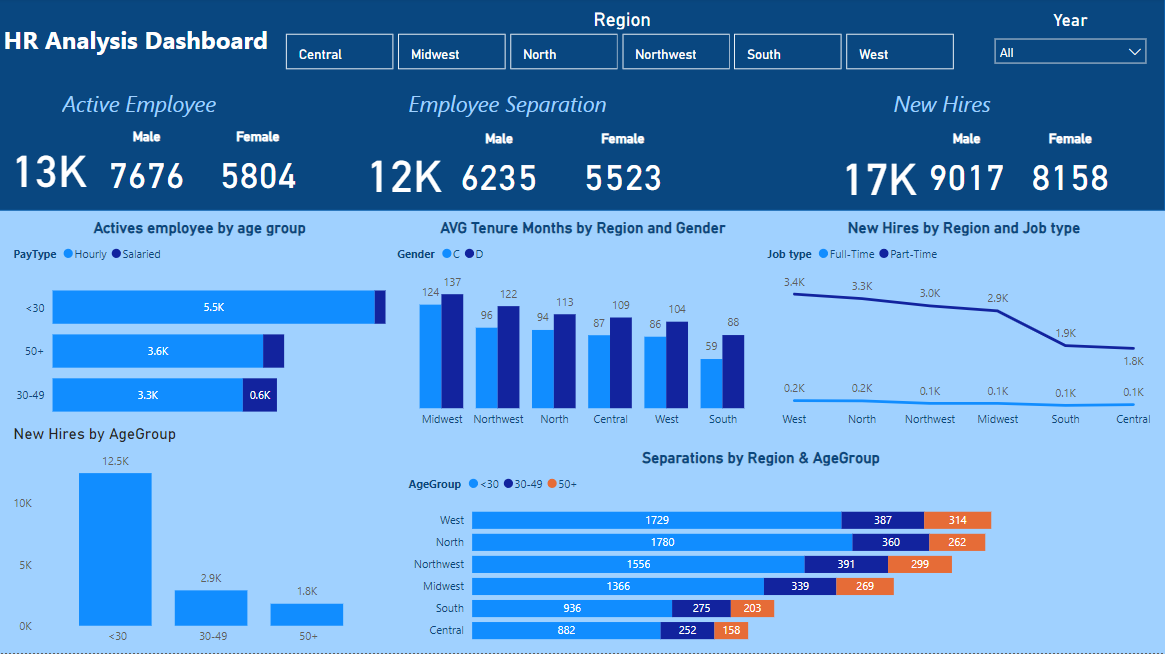

This screenshot's page, from the dashboard's own definition file:
{"tool":"powerbi","page":{"name":"Page 1","canvas":[1280,720],"ordinal":0},"visuals":[{"type":"shape","box":[0,0,1280.3,234.6],"z":0},{"type":"textbox","box":[0,23.3,322.5,72.7],"z":1000},{"type":"advancedSlicerVisual","fields":{"Values":["BU.Region"]},"box":[310.1,12.3,747.9,72.7],"z":2000},{"type":"slicer","title":"Year","fields":{"Values":["Date.Year"]},"box":[1082.7,13.7,186.6,71.4],"z":3000},{"type":"textbox","box":[64.5,96.1,193.5,42.5],"z":4000},{"type":"card","fields":{"Values":["Measure Table.Actives"]},"box":[0,138.6,109.8,96.1],"z":5000},{"type":"card","title":"Male","fields":{"Values":["Measure Table.Male Actives"]},"box":[93.3,144.1,137.2,79.6],"z":6000},{"type":"card","title":"Female","fields":{"Values":["Measure Table.Female Actives"]},"box":[205.8,144.1,156.4,79.6],"z":7000},{"type":"textbox","box":[444.6,96.1,290.9,42.5],"z":8000},{"type":"textbox","box":[977,96.1,163.3,42.5],"z":9000},{"type":"card","fields":{"Values":["Measure Table.Separations"]},"box":[389.7,144.1,109.8,96.1],"z":10000},{"type":"card","title":"Female","fields":{"Values":["Measure Table.female Separations"]},"box":[606.5,146.8,156.4,79.6],"z":11000},{"type":"card","title":"Male","fields":{"Values":["Measure Table.Male Separations"]},"box":[470.7,146.8,156.4,79.6],"z":12000},{"type":"card","fields":{"Values":["Measure Table.New Hires"]},"box":[911.2,146.8,109.8,96.1],"z":13000},{"type":"card","title":"Male","fields":{"Values":["Measure Table.Male New Hires"]},"box":[983.9,146.8,156.4,79.6],"z":14000},{"type":"card","title":"Female","fields":{"Values":["Measure Table.Female New Hires"]},"box":[1097.8,146.8,156.4,79.6],"z":15000},{"type":"barChart","title":"Actives employee by age group","fields":{"Category":["AgeGroup.AgeGroup"],"Y":["Measure Table.Actives"],"Series":["PayType.PayType"]},"box":[11,242.9,418.5,238.8],"z":16000},{"type":"columnChart","fields":{"Y":["Measure Table.New Hires"],"Category":["AgeGroup.AgeGroup"]},"box":[11,469.3,418.5,251.1],"z":16001},{"type":"clusteredColumnChart","fields":{"Y":["Measure Table.AVG Tenure Months"],"Series":["Employee.Gender"],"Category":["BU.Region"]},"box":[432.2,242.9,417.2,238.8],"z":16002},{"type":"barChart","title":"Separations by Region & AgeGroup","fields":{"Y":["Measure Table.Separations"],"Category":["BU.Region"],"Series":["AgeGroup.AgeGroup"]},"box":[444.6,495.4,783.5,225],"z":16003},{"type":"lineChart","fields":{"Y":["Measure Table.New Hires"],"Category":["BU.Region"],"Series":["FP.Job type"]},"box":[838.4,242.9,441.9,238.8],"z":16004}]}

Visuals, with their boxes in screenshot pixels (x1, y1, x2, y2), scaled from the page's 1280x720 canvas onto the 1165x654 screenshot:
shape: detection(0, 0, 1164, 213)
textbox: detection(0, 21, 294, 87)
advancedSlicerVisual - BU.Region: detection(282, 11, 963, 77)
"Year" slicer: detection(985, 12, 1155, 77)
textbox: detection(59, 87, 235, 126)
card - Measure Table.Actives: detection(0, 126, 100, 213)
"Male" card: detection(85, 131, 210, 203)
"Female" card: detection(187, 131, 330, 203)
textbox: detection(405, 87, 669, 126)
textbox: detection(889, 87, 1038, 126)
card - Measure Table.Separations: detection(355, 131, 455, 218)
"Female" card: detection(552, 133, 694, 206)
"Male" card: detection(428, 133, 571, 206)
card - Measure Table.New Hires: detection(829, 133, 929, 221)
"Male" card: detection(896, 133, 1038, 206)
"Female" card: detection(999, 133, 1142, 206)
"Actives employee by age group" barChart: detection(10, 221, 391, 438)
columnChart - Measure Table.New Hires x AgeGroup.AgeGroup: detection(10, 426, 391, 653)
clusteredColumnChart - Measure Table.AVG Tenure Months x Employee.Gender: detection(393, 221, 773, 438)
"Separations by Region & AgeGroup" barChart: detection(405, 450, 1118, 653)
lineChart - Measure Table.New Hires x BU.Region: detection(763, 221, 1164, 438)
